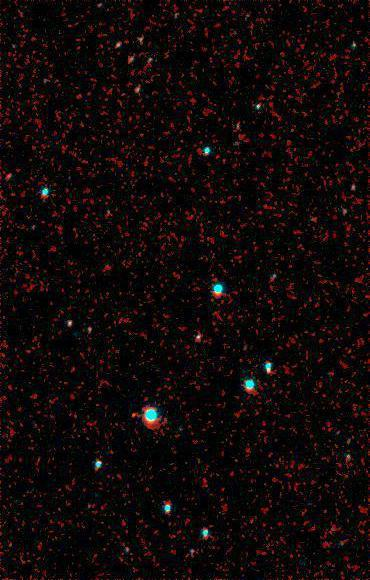star: (116, 406, 146, 436)
